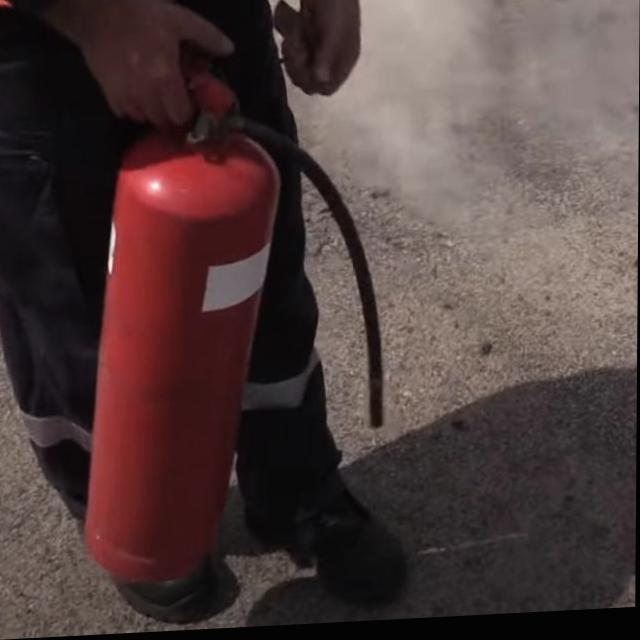FireExtinguisher: (72, 17, 394, 593)
